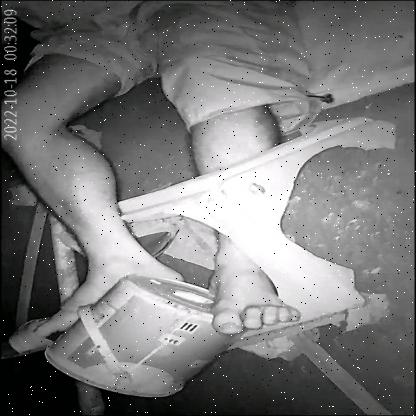leg: (0, 61, 186, 337), (201, 231, 315, 343)
